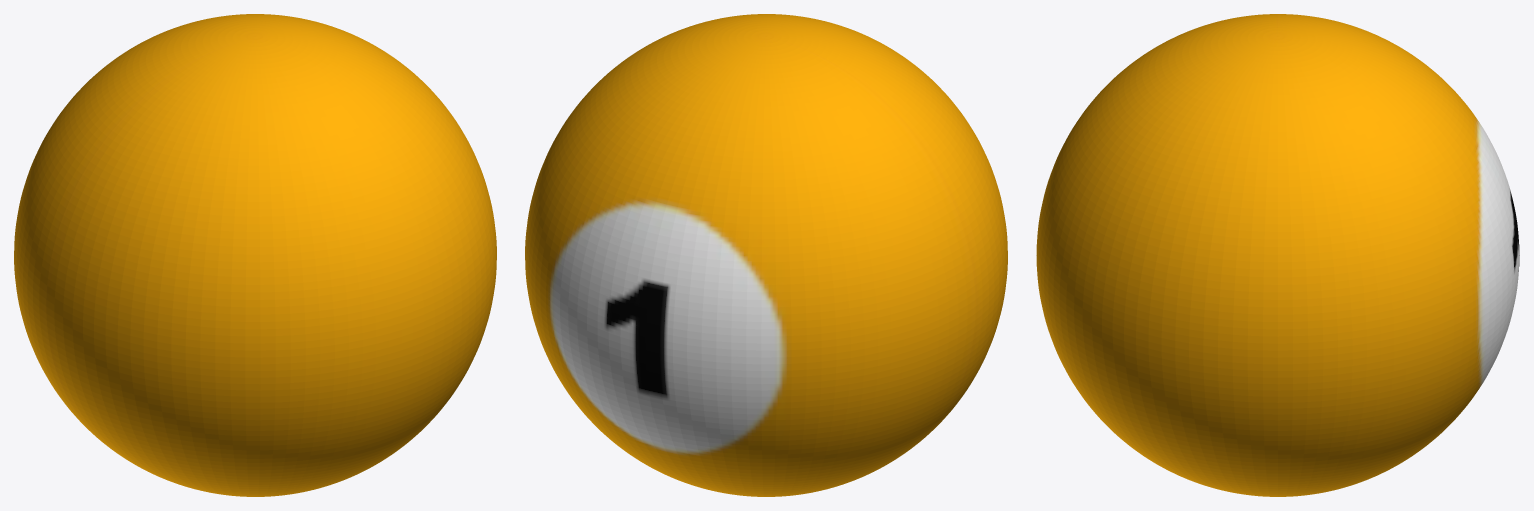
File: OneBall.obj
The picture shows the model from 3 angles, left to right: view 1: azimuth 30°, elevation 25°; view 2: azimuth 150°, elevation 25°; view 3: azimuth 270°, elevation 25°; orthographic projection.
Parts seen in each view (by area): view 1: Sphere; view 2: Sphere; view 3: Sphere.
Part boxes in pixels (x1,y1,x2,y2): Sphere: (14,14,496,496); Sphere: (525,14,1007,496); Sphere: (1036,14,1519,496).
Bounding box in the file's own units: 2 × 2 × 2.
